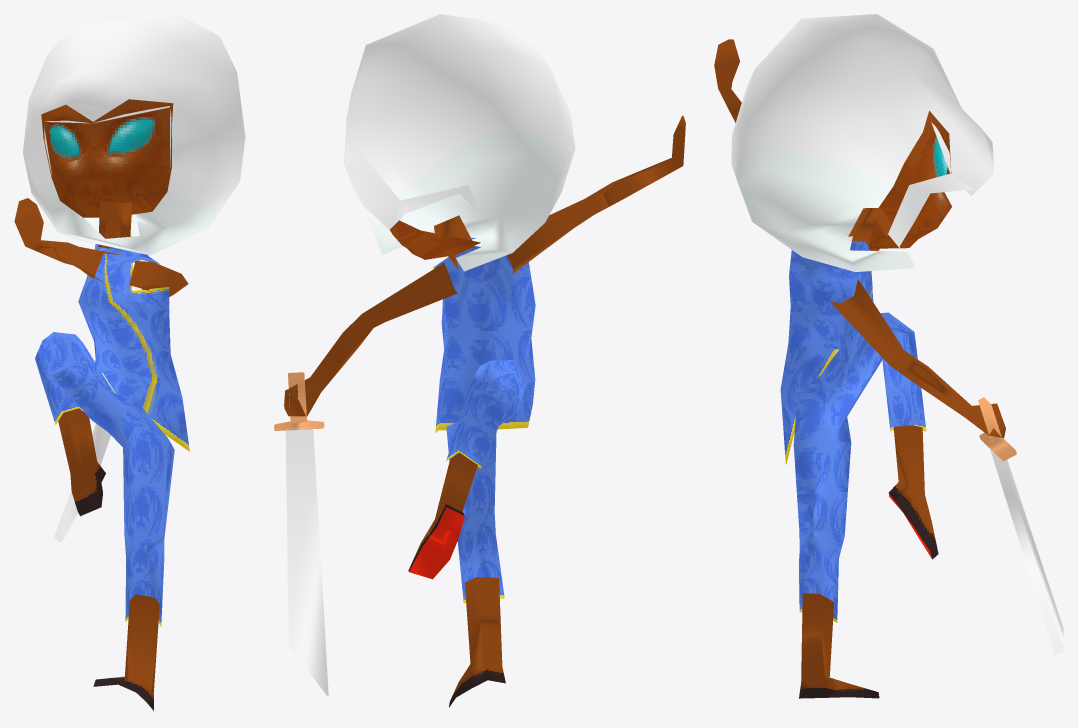
File: ps2_save-icons_beatmaniaiidx8thstyle.glb
3 renders of one model, left to right at view 1: azimuth 30°, elevation 25°; view 2: azimuth 150°, elevation 25°; view 3: azimuth 270°, elevation 25°, orthographic. The views are drawn at different scales.
Parts seen in each view (by area): view 1: 2DXICON.ico; view 2: 2DXICON.ico; view 3: 2DXICON.ico.
Part boxes in pixels (left/top/right/bottom): 2DXICON.ico: left=14, top=14, right=245, bottom=710; 2DXICON.ico: left=274, top=14, right=685, bottom=707; 2DXICON.ico: left=714, top=14, right=1063, bottom=698.
Size of the model in its own units: 2.09 by 4.75 by 2.21.
1 material, 1 textured.
